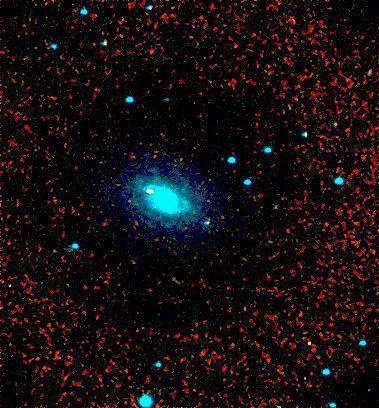star: (134, 176, 164, 206)
